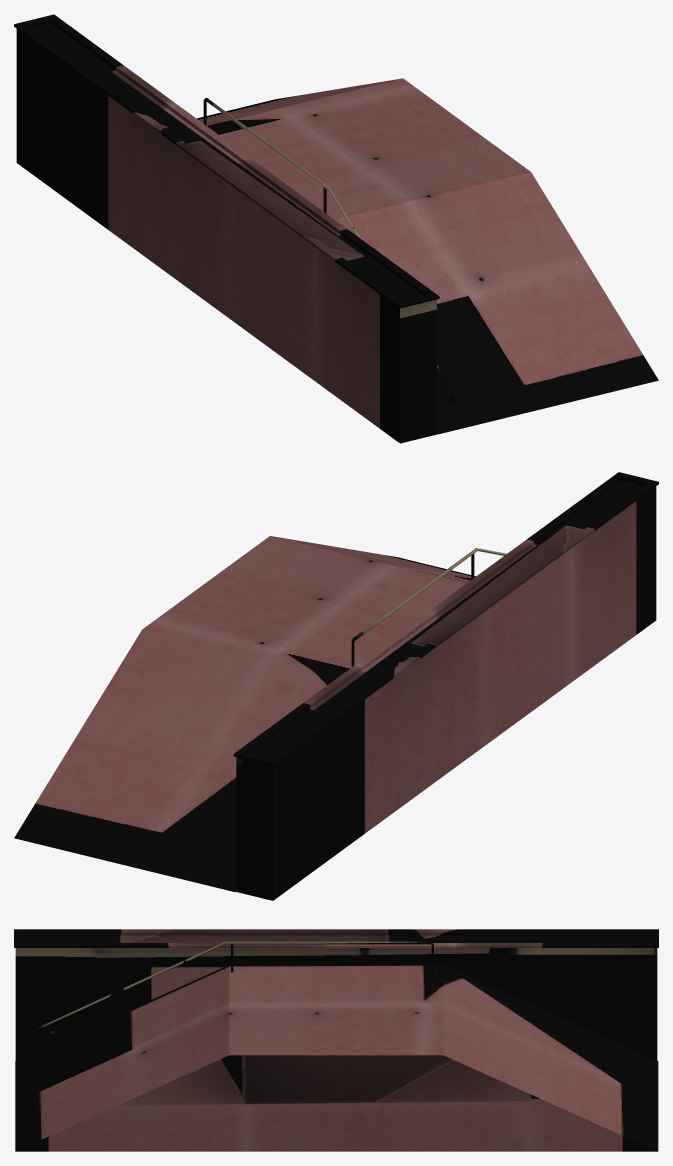
Rendered from Ramp07.fbx.
3 renders of one model, top to bottom at view 1: azimuth 30°, elevation 25°; view 2: azimuth 150°, elevation 25°; view 3: azimuth 270°, elevation 25°, orthographic. The views are drawn at different scales.
Parts seen in each view (by area): view 1: Ramp07; view 2: Ramp07; view 3: Ramp07.
Part boxes in pixels (bbox=[...]): Ramp07: bbox=[14, 14, 658, 443]; Ramp07: bbox=[14, 472, 658, 900]; Ramp07: bbox=[14, 929, 658, 1151].
Bounding box in the file's own units: 7.05 × 3.9 × 18.07.
